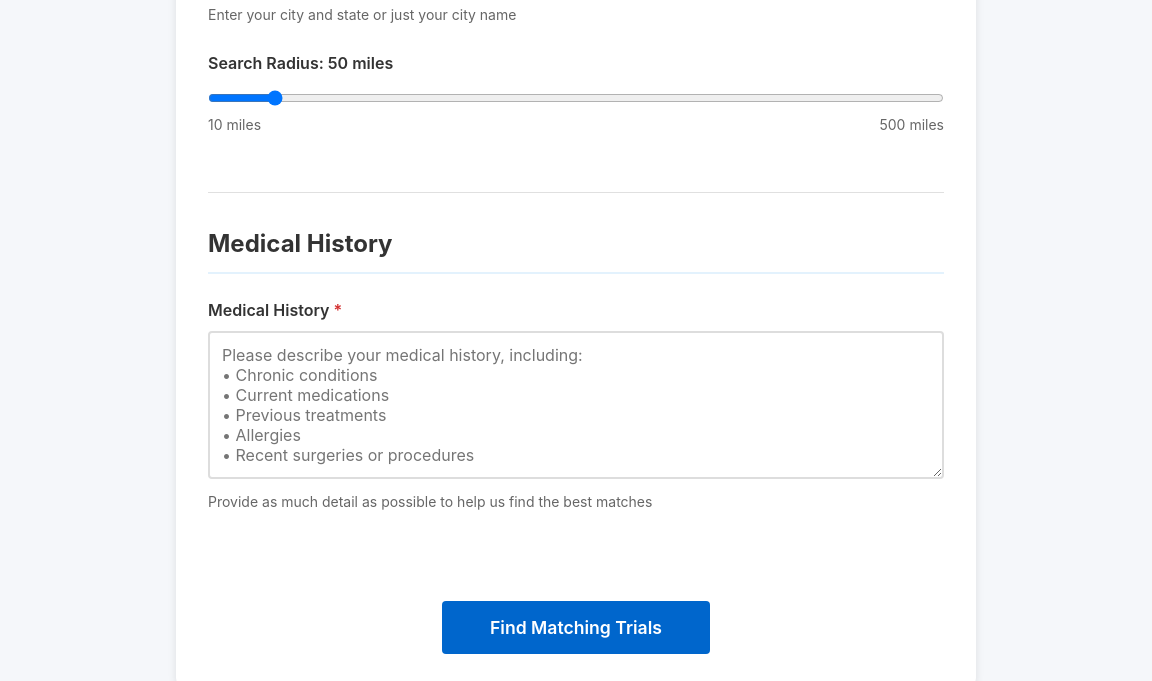
Test case: PatientProfileForm › Form Validation - Required Fields › shows error when location is not provided
(page scrolled)
Click the button "Find Matching Trials" at x=576, y=628, box [442,601,710,654]
(page scrolled)
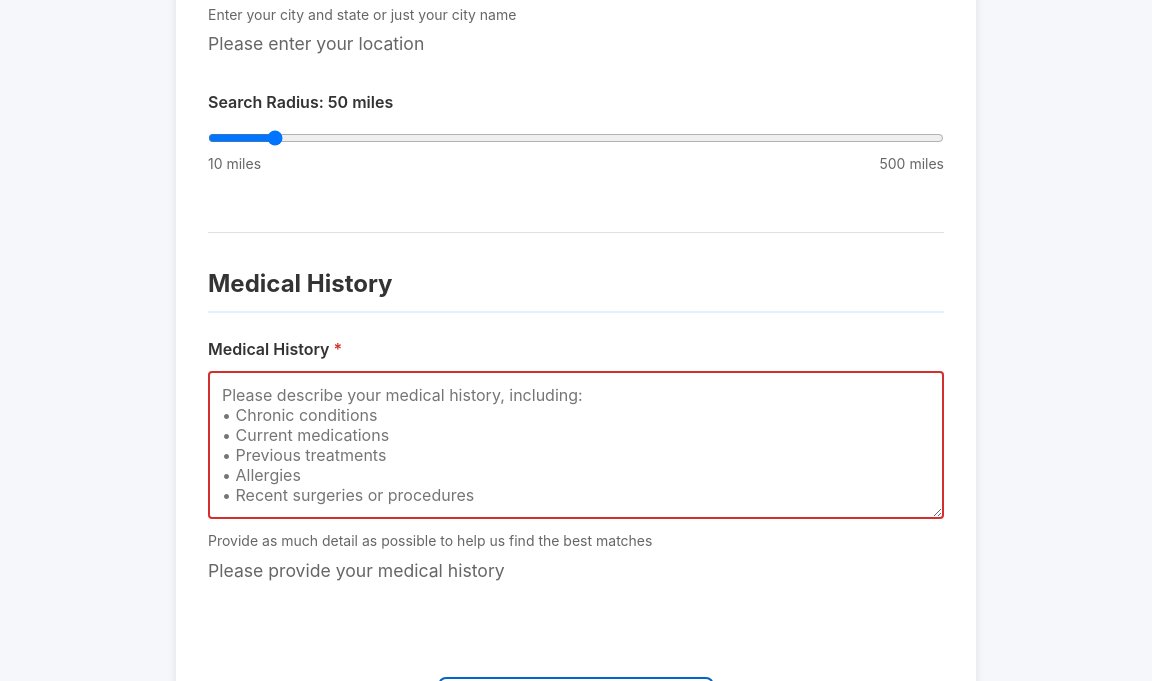
expect the text "Please enter your location" is shown: met, box [208,33,424,54]
